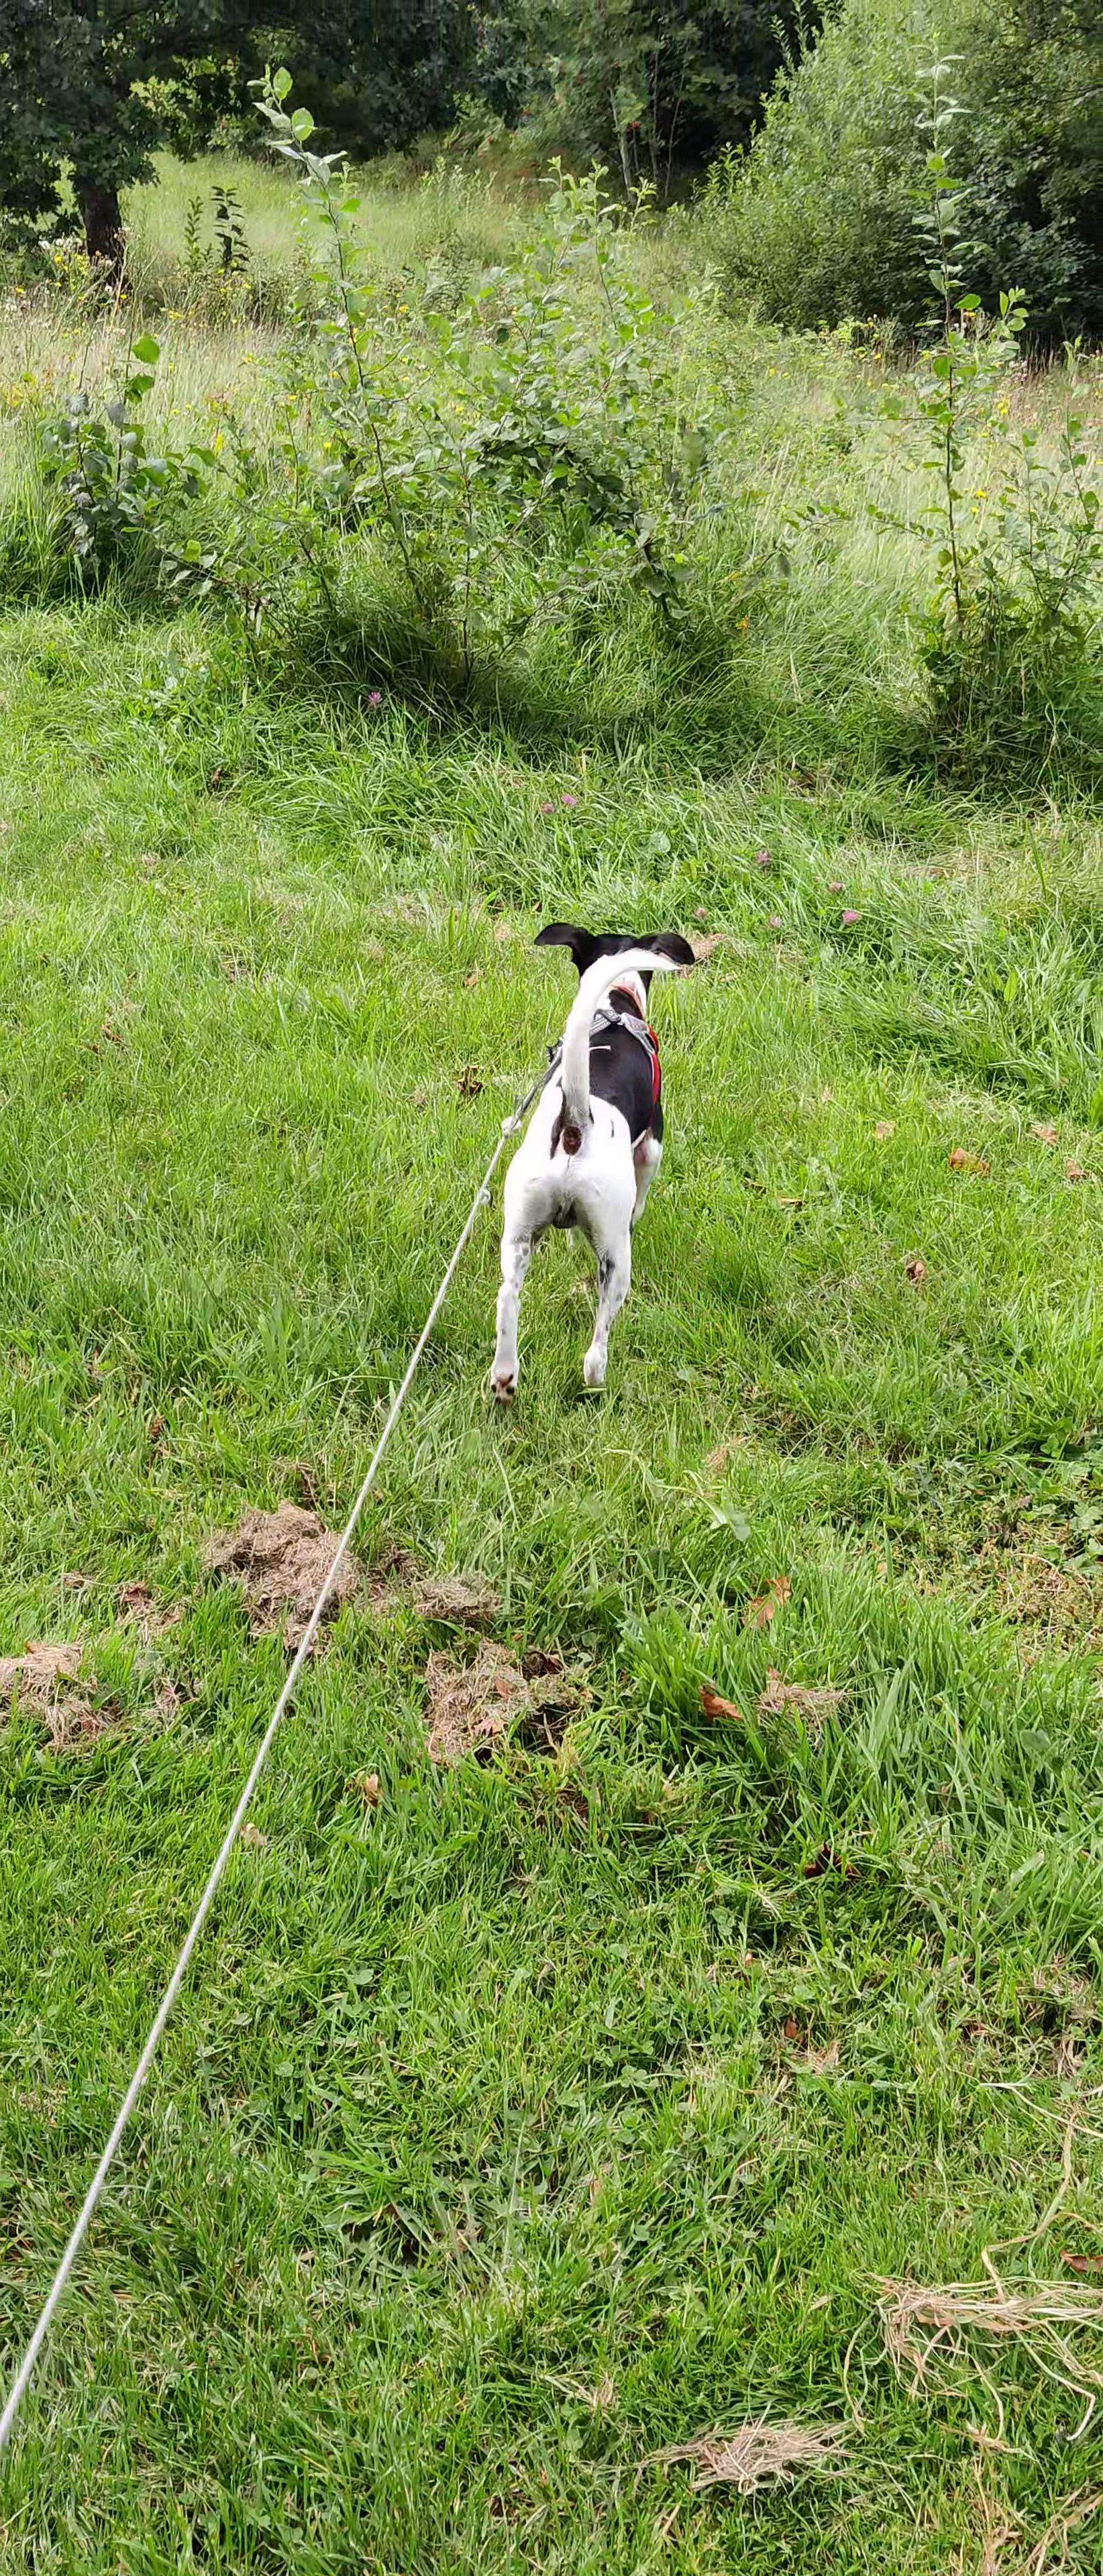Dog: (439, 910, 718, 1424)
